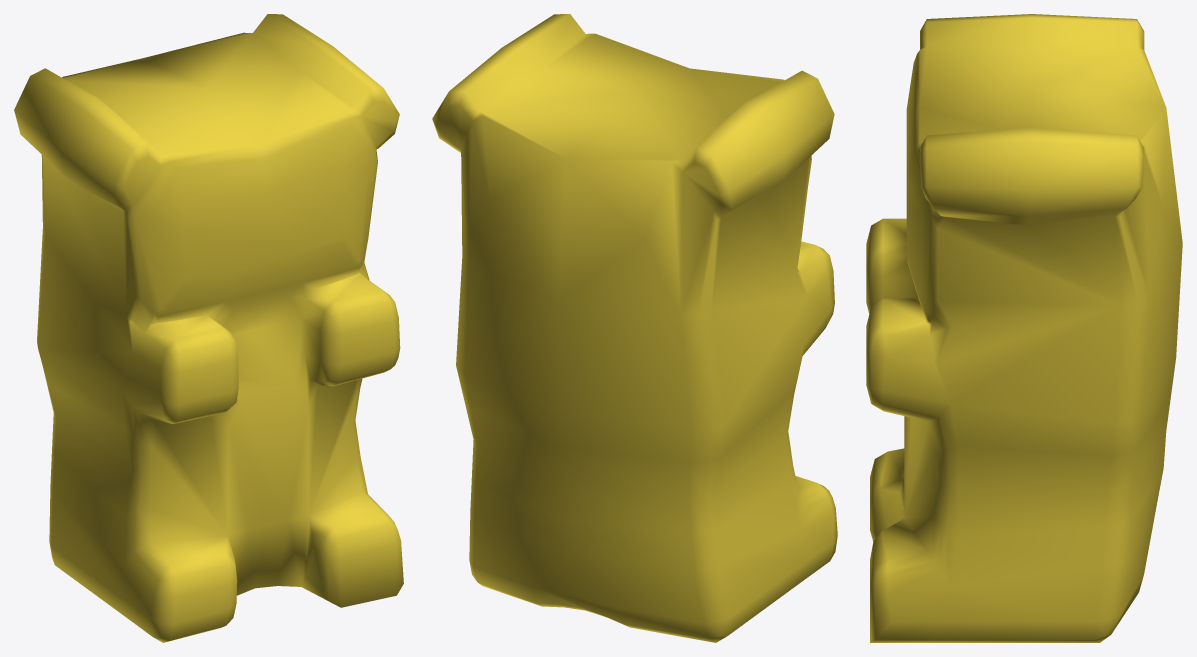
The model's file is gummyBear.fbx.
3 views of the same model, side by side, from view 1: azimuth 30°, elevation 25°; view 2: azimuth 150°, elevation 25°; view 3: azimuth 270°, elevation 25° (orthographic). The views are drawn at different scales.
Parts seen in each view (by area): view 1: Cube.041; view 2: Cube.041; view 3: Cube.041.
Part boxes in pixels (x1,y1,x2,y2): Cube.041: (14,14,403,642); Cube.041: (432,14,837,642); Cube.041: (866,14,1182,642).
Bounding box in the file's own units: 87.82 × 142 × 79.44.
